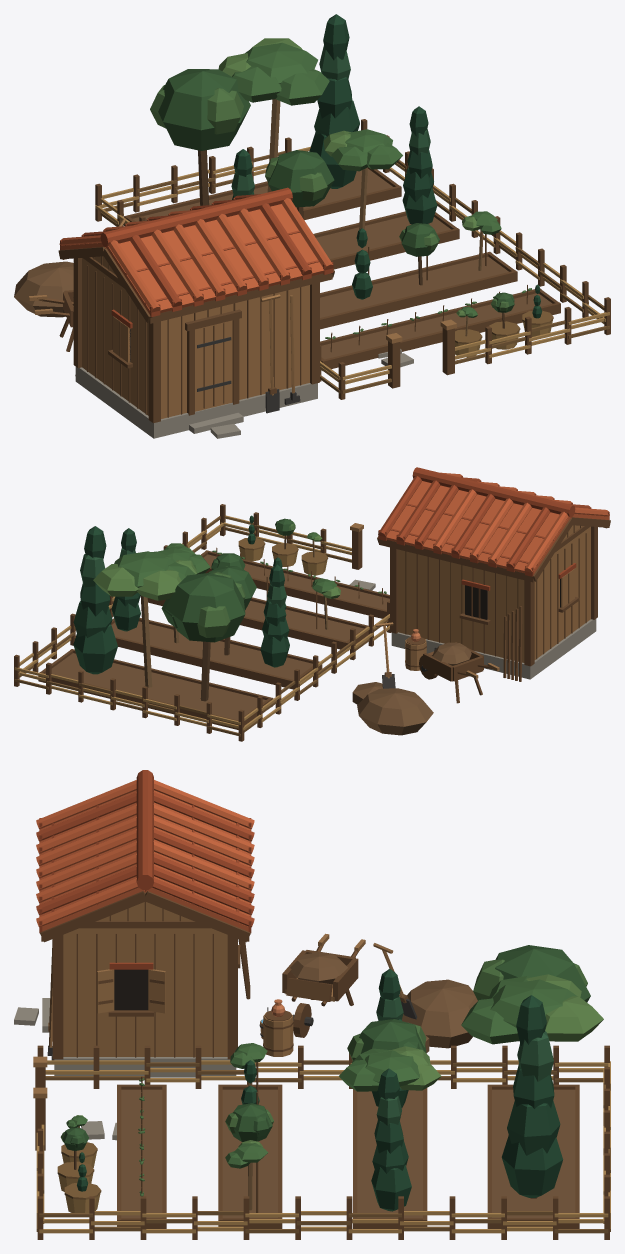
The model's file is Foerster.fbx.
3 renders of one model, top to bottom at view 1: azimuth 30°, elevation 25°; view 2: azimuth 150°, elevation 25°; view 3: azimuth 270°, elevation 25°, orthographic. The views are drawn at different scales.
Visible parts, largest first — view 1: Foerster_0; view 2: Foerster_0; view 3: Foerster_0.
Boxes of the visible parts, x1,y1,x2,y2 form: Foerster_0: (14,14,610,438); Foerster_0: (14,467,610,741); Foerster_0: (14,770,610,1239).
Size of the model in its own units: 3.55 by 1.41 by 3.41.
